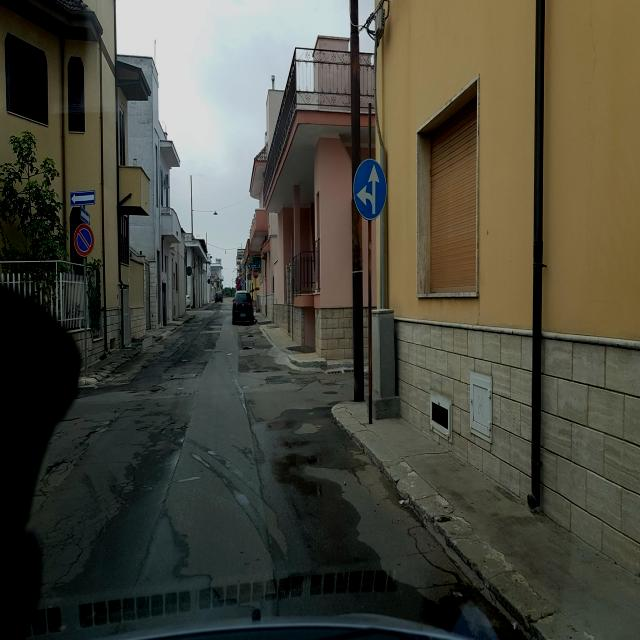car: (231, 288, 255, 324), (215, 290, 223, 303)
